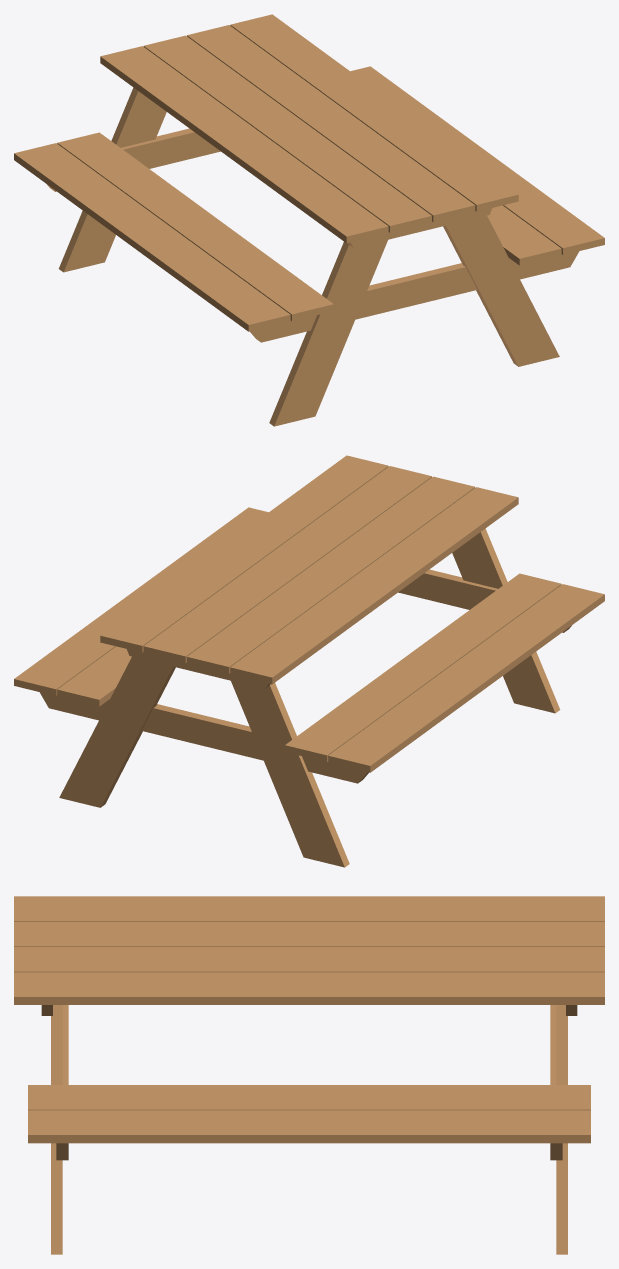
File: PicnicTable_A.fbx
The picture shows the model from 3 angles, top to bottom: view 1: azimuth 30°, elevation 25°; view 2: azimuth 150°, elevation 25°; view 3: azimuth 270°, elevation 25°; orthographic projection. The views are drawn at different scales.
Visible parts, largest first — view 1: PicnicTable; view 2: PicnicTable; view 3: PicnicTable.
Boxes of the visible parts, bbox=[...] form: PicnicTable: bbox=[14, 14, 604, 426]; PicnicTable: bbox=[14, 455, 604, 867]; PicnicTable: bbox=[14, 896, 604, 1254].
Size of the model in its own units: 152 by 76.25 by 182.
